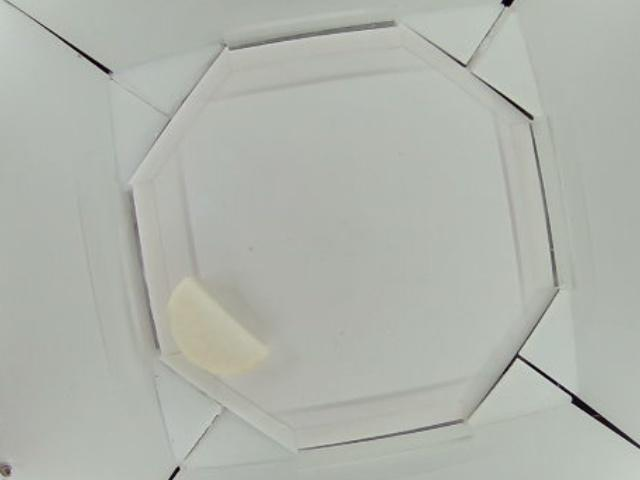Mooli: (169, 276, 271, 376)
